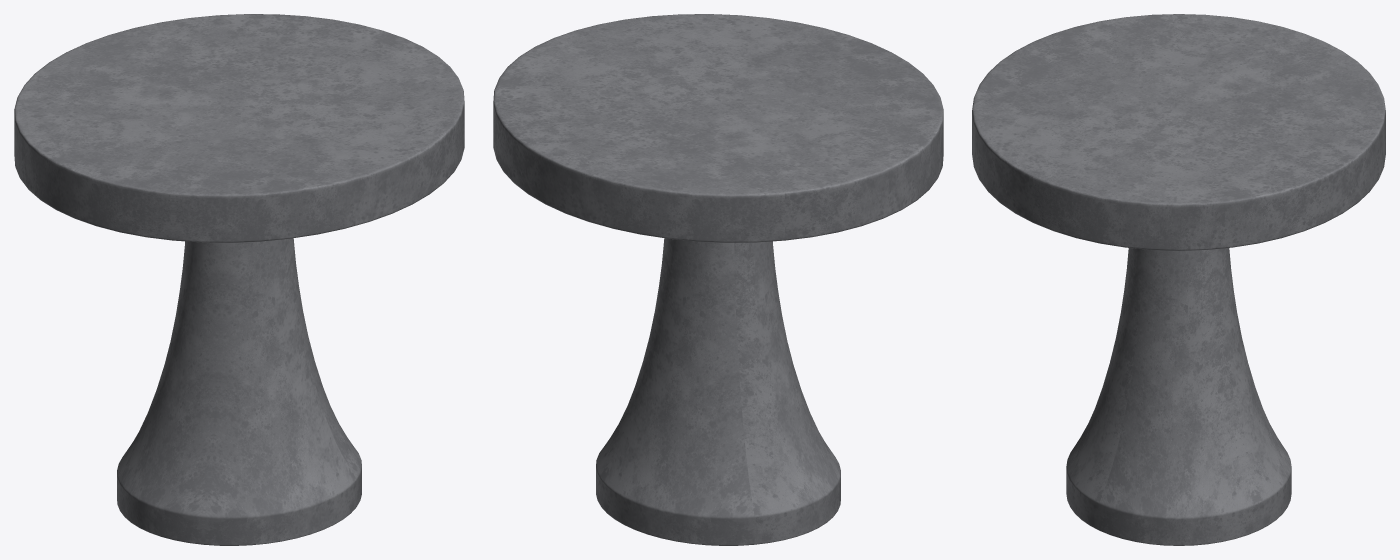
The model's file is endtable-8.gltf.
The picture shows the model from 3 angles, left to right: view 1: azimuth 30°, elevation 25°; view 2: azimuth 150°, elevation 25°; view 3: azimuth 270°, elevation 25°; orthographic projection.
Visible parts, largest first — view 1: Concrete table.001; view 2: Concrete table.001; view 3: Concrete table.001.
Boxes of the visible parts, <box> form: Concrete table.001: <box>14,14,464,545</box>; Concrete table.001: <box>493,14,943,545</box>; Concrete table.001: <box>972,14,1385,545</box>.
Bounding box in the file's own units: 0.5186 × 0.488 × 0.4749.
Materials: 1 (1 with a texture image).
